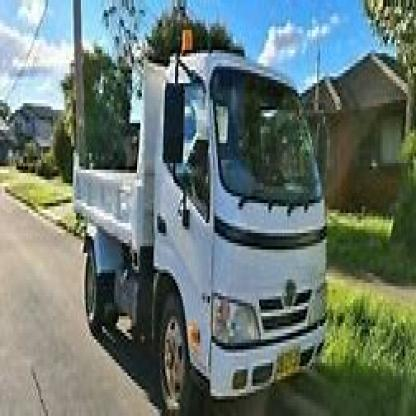dump_truck: (74, 13, 330, 413)
